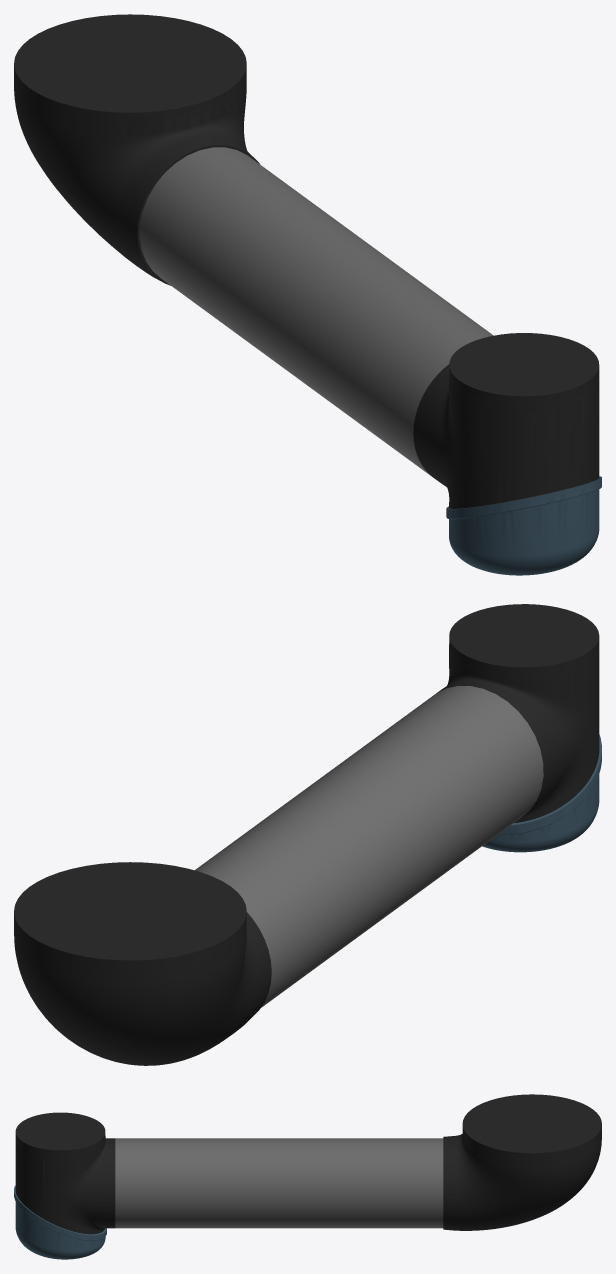
File: forearm.obj
The picture shows the model from 3 angles, top to bottom: view 1: azimuth 30°, elevation 25°; view 2: azimuth 150°, elevation 25°; view 3: azimuth 270°, elevation 25°; orthographic projection. The views are drawn at different scales.
Parts seen in each view (by area): view 1: Actor1, Actor3, Actor2, Actor0_001; view 2: Actor1, Actor3, Actor2, Actor0_001; view 3: Actor1, Actor3, Actor2, Actor0_001.
Part boxes in pixels (x1=…): Actor1: x1=139, y1=147, x2=493, y2=476; Actor3: x1=14, y1=14, x2=259, y2=285; Actor2: x1=413, y1=333, x2=599, y2=508; Actor0_001: x1=446, y1=476, x2=601, y2=575; Actor1: x1=195, y1=686, x2=543, y2=1007; Actor3: x1=14, y1=862, x2=271, y2=1065; Actor2: x1=436, y1=604, x2=599, y2=822; Actor0_001: x1=482, y1=734, x2=601, y2=852; Actor1: x1=115, y1=1138, x2=443, y2=1228; Actor3: x1=443, y1=1094, x2=601, y2=1230; Actor2: x1=15, y1=1112, x2=115, y2=1234; Actor0_001: x1=14, y1=1185, x2=106, y2=1259.
Bounding box in the file's own units: 0.116 × 0.1117 × 0.4892.
